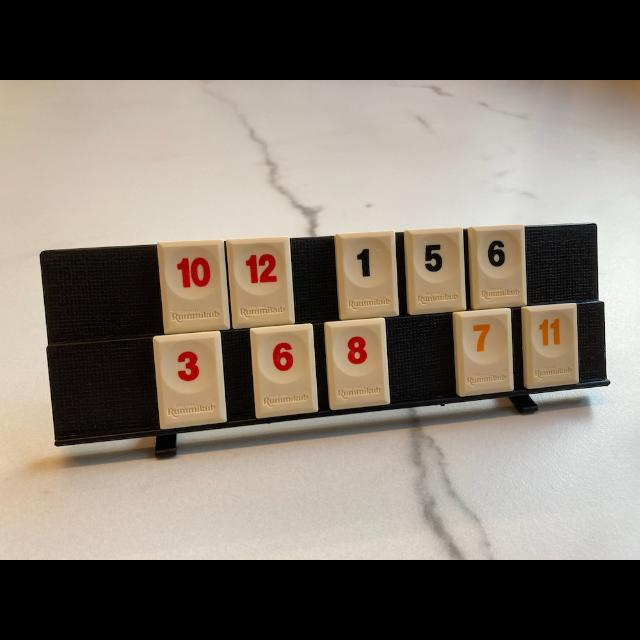black_1: (336, 231, 399, 319)
black_5: (404, 228, 466, 314)
black_6: (468, 226, 528, 310)
orange_11: (521, 302, 578, 389)
orange_7: (452, 309, 514, 396)
red_10: (158, 240, 229, 334)
red_12: (226, 236, 295, 329)
red_3: (152, 332, 226, 429)
red_6: (251, 324, 317, 419)
red_8: (325, 318, 389, 410)
